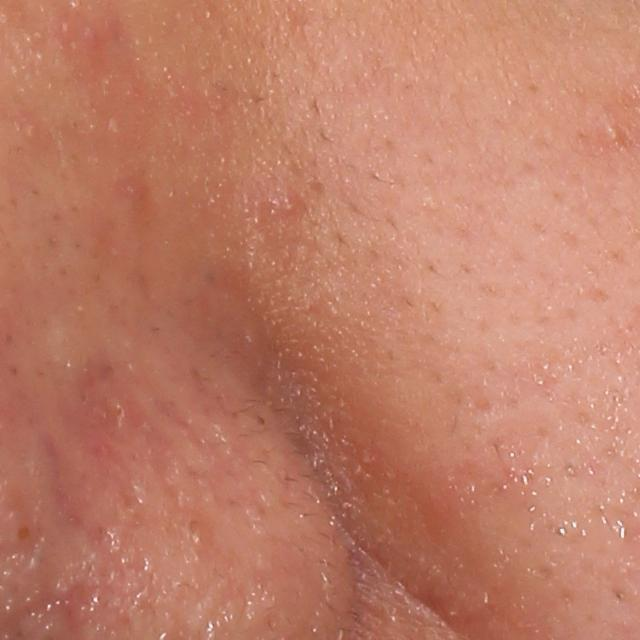papule: (276, 185, 305, 216)
